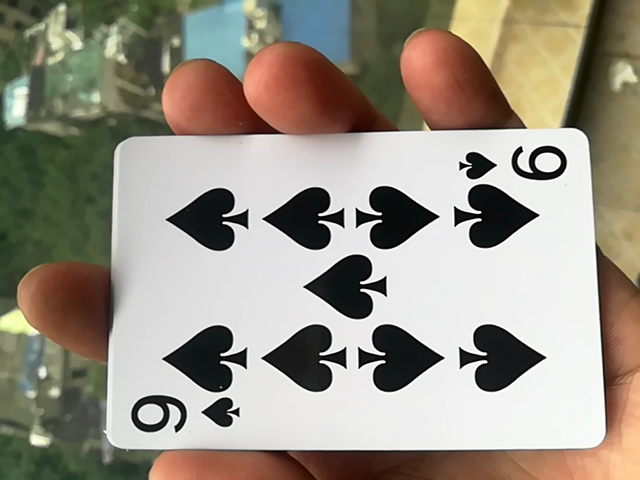ht 9: (90, 132, 605, 461)
